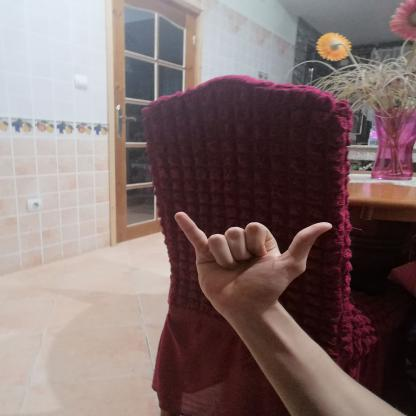YA: (161, 203, 347, 326)
